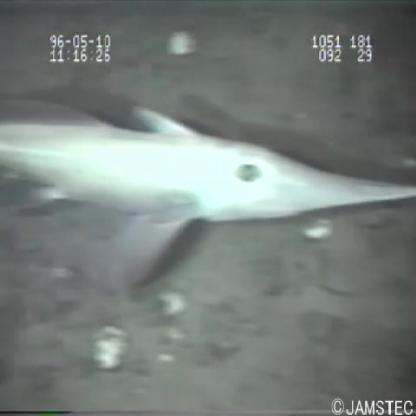Bio: (1, 97, 416, 277)
